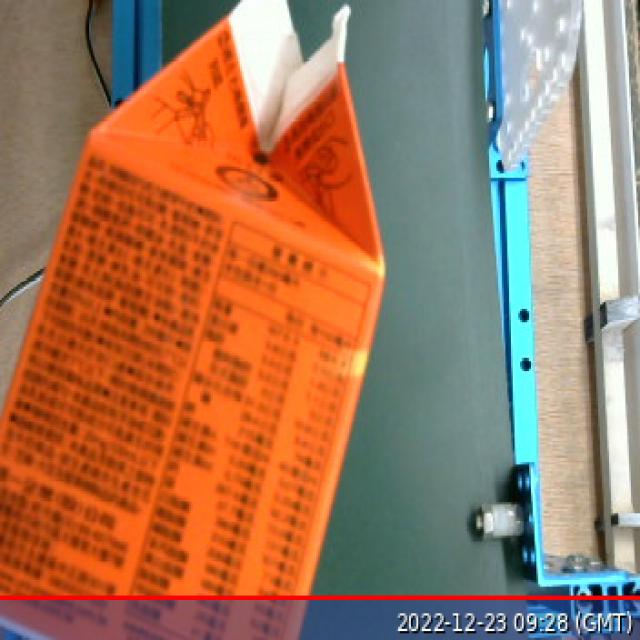non_white_jug: (0, 2, 409, 640)
